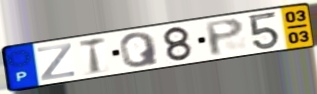5: (246, 11, 281, 51)
8: (162, 25, 196, 64)
P: (203, 17, 246, 58)
Q: (118, 31, 162, 69)
T: (78, 35, 108, 76)
Z: (36, 42, 77, 83)
